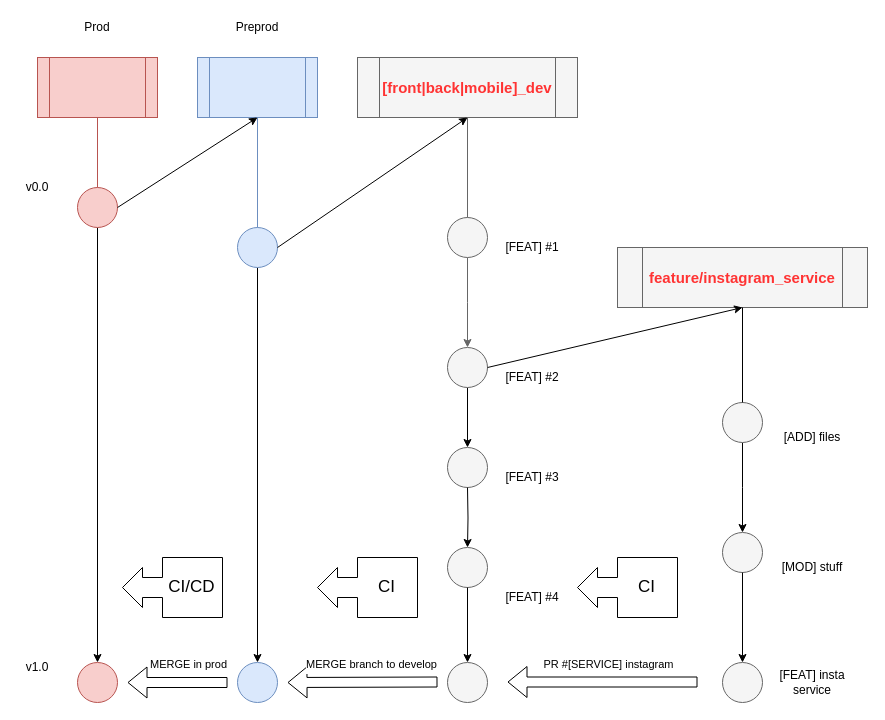
The diagram is 885 pixels wide and 720 high, and some of its shapes have lost their labels. Each missing label, with the centre of its shape:
"develop" belongs at point 257,87.
"master" belongs at point 97,87.
